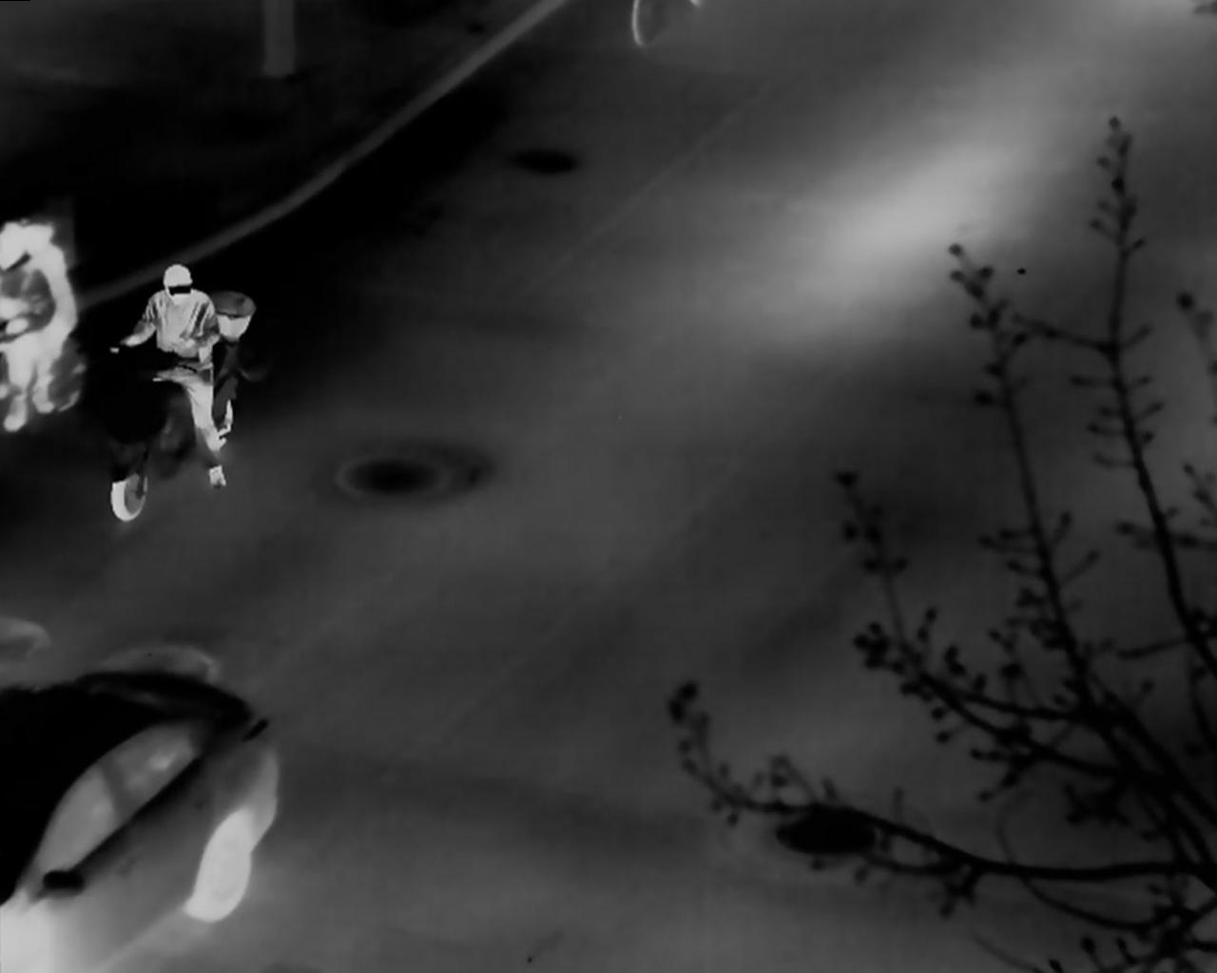person: (139, 262, 243, 464)
